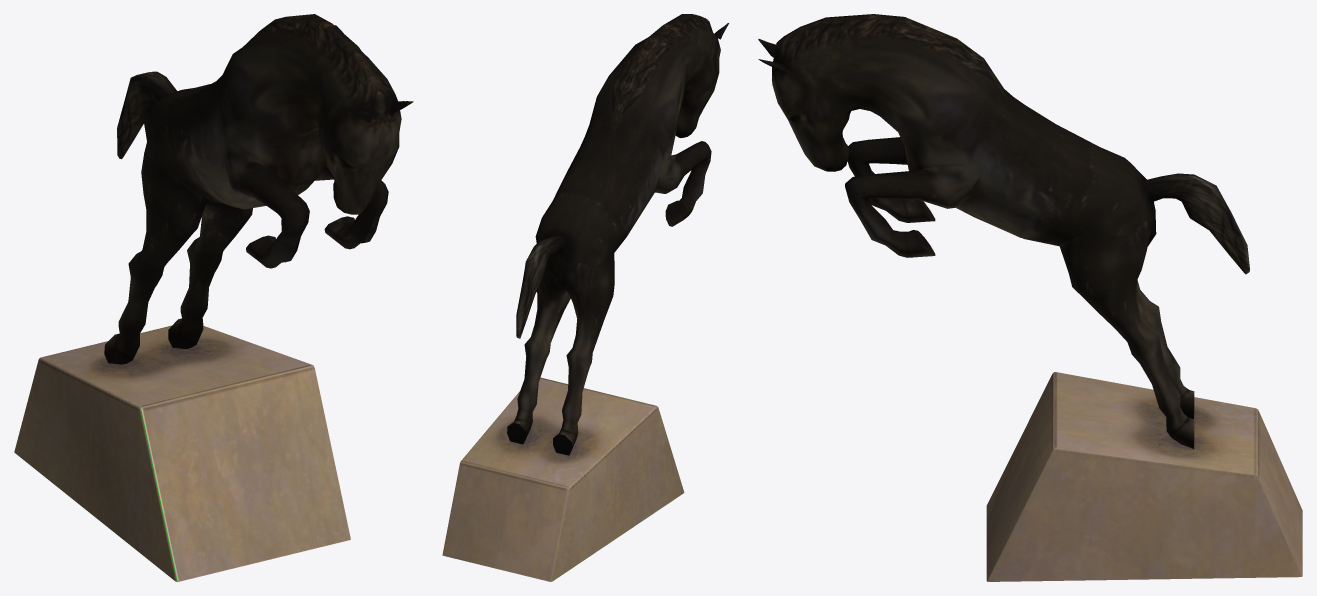
Rendered from Statue04.FBX.
The picture shows the model from 3 angles, left to right: view 1: azimuth 30°, elevation 25°; view 2: azimuth 150°, elevation 25°; view 3: azimuth 270°, elevation 25°; orthographic projection. The views are drawn at different scales.
Visible parts, largest first — view 1: Statue04; view 2: Statue04; view 3: Statue04.
Boxes of the visible parts, x1,y1,x2,y2 form: Statue04: (14,14,413,581); Statue04: (442,14,728,581); Statue04: (758,14,1302,581).
Bounding box in the file's own units: 0.1801 × 0.5717 × 0.5354.
